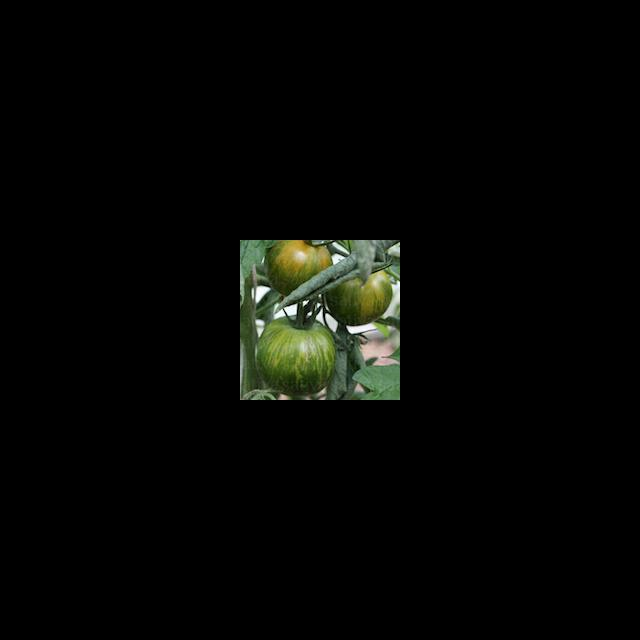tomato: (257, 307, 342, 391)
